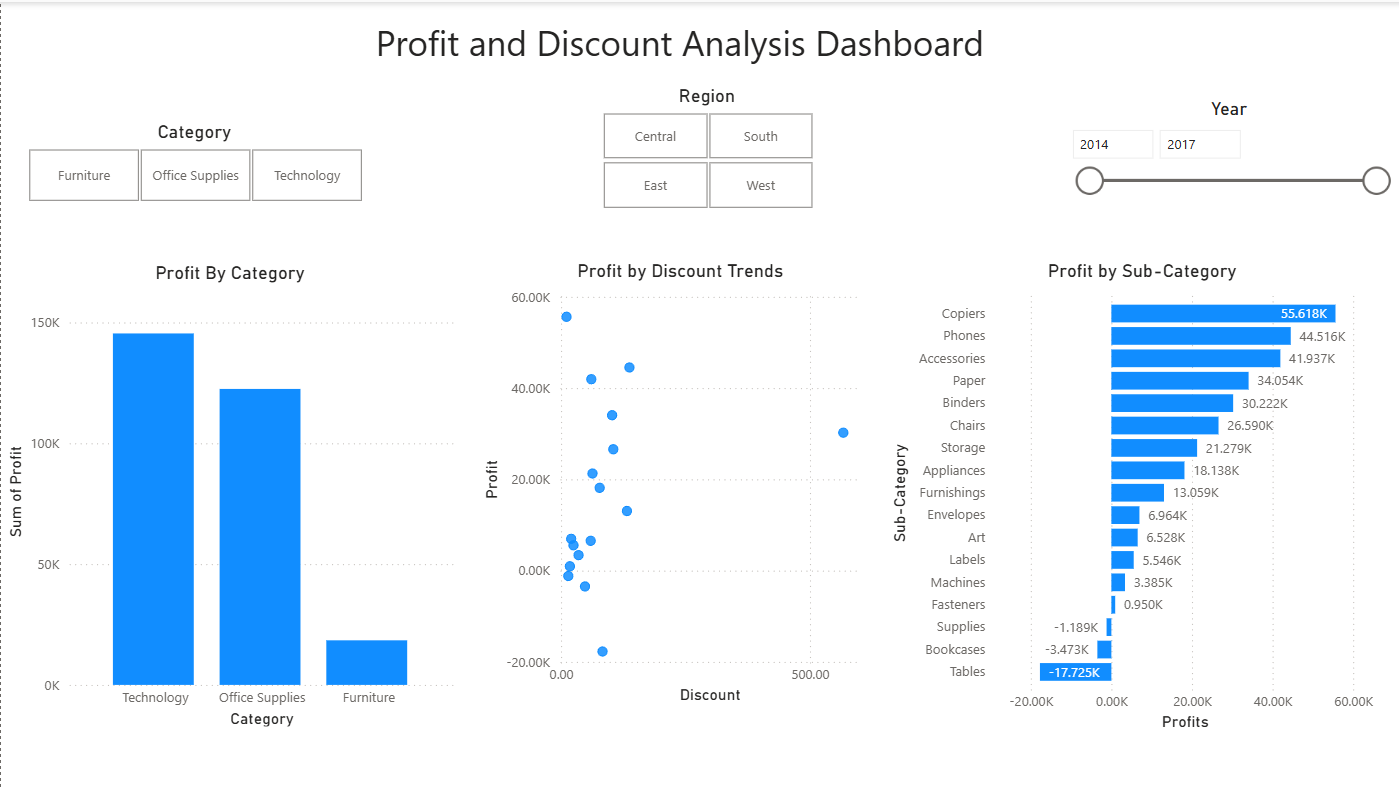

The dashboard page shown, as its layout file describes it:
{"tool":"powerbi","page":{"name":"Profit Analysis","canvas":[1280,720],"ordinal":1},"visuals":[{"type":"clusteredBarChart","title":"Profit by Sub-Category","fields":{"Category":["Sample - Superstore (2).Sub-Category"],"Y":["Sum(Sample - Superstore (2).Profit)"]},"box":[808.3,236.2,472.1,410.3],"z":0,"group":"g1"},{"type":"columnChart","title":"Profit By Category","fields":{"Category":["Sample - Superstore (2).Category"],"Y":["Sum(Sample - Superstore (2).Profit)"]},"box":[0,237.4,419.4,430],"z":1000,"group":"g1"},{"type":"scatterChart","title":"Profit by Discount Trends","fields":{"X":["Sum(Sample - Superstore (2).Discount)"],"Y":["Sum(Sample - Superstore (2).Profit)"],"Category":["Sample - Superstore (2).Sub-Category"]},"box":[435,236.2,373.3,410.3],"z":2000,"group":"g1"},{"type":"textbox","box":[336.2,9.6,569.5,61.8],"z":2001},{"type":"group","id":"g1","title":"Group 1","box":[0,236.2,1281,431.5],"z":2002},{"type":"slicer","title":"Region","fields":{"Values":["Sample - Superstore (2).Region"]},"box":[525.4,75.7,240.8,119.6],"z":2004},{"type":"slicer","title":"Year","fields":{"Values":["Sample - Superstore (2).Year"]},"box":[967.6,87.8,311.9,95.4],"z":2005},{"type":"slicer","title":"Category","fields":{"Values":["Sample - Superstore (2).Category"]},"box":[0,109,354.3,80.3],"z":2006}]}

Visuals, with their boxes in screenshot pixels (x1, y1, x2, y2), scaled from the page's 1280x720 canvas onto the 1399x788 screenshot:
"Profit by Sub-Category" clusteredBarChart: left=883, top=259, right=1398, bottom=708
"Profit By Category" columnChart: left=0, top=260, right=458, bottom=730
"Profit by Discount Trends" scatterChart: left=475, top=259, right=883, bottom=708
textbox: left=367, top=11, right=990, bottom=78
"Group 1" group: left=0, top=259, right=1398, bottom=731
"Region" slicer: left=574, top=83, right=837, bottom=214
"Year" slicer: left=1058, top=96, right=1398, bottom=201
"Category" slicer: left=0, top=119, right=387, bottom=207
